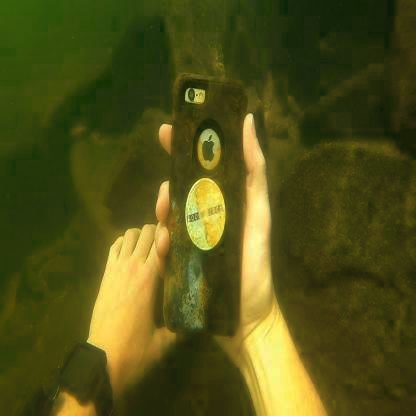cellphone: (162, 72, 249, 341)
electronics: (56, 338, 114, 416)
